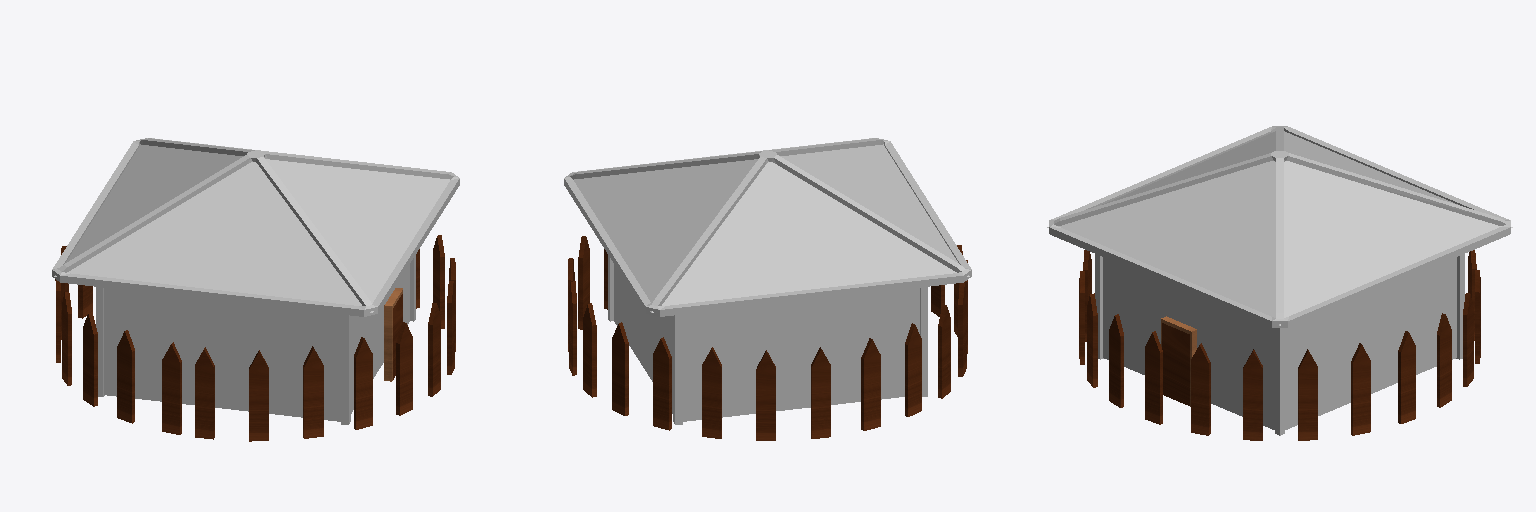
3 renders of one model, left to right at view 1: azimuth 30°, elevation 25°; view 2: azimuth 150°, elevation 25°; view 3: azimuth 270°, elevation 25°, orthographic.
Visible parts, largest first — view 1: House.004_Cube.005, Fence_Cube.001, DoorMesh_Plane.006; view 2: House.004_Cube.005, Fence_Cube.001; view 3: House.004_Cube.005, Fence_Cube.001, DoorMesh_Plane.006.
Boxes of the visible parts, x1=… form: House.004_Cube.005: x1=52, y1=138, x2=459, y2=424; Fence_Cube.001: x1=55, y1=235, x2=455, y2=441; DoorMesh_Plane.006: x1=384, y1=288, x2=402, y2=381; House.004_Cube.005: x1=564, y1=138, x2=971, y2=424; Fence_Cube.001: x1=568, y1=236, x2=967, y2=440; House.004_Cube.005: x1=1047, y1=126, x2=1512, y2=435; Fence_Cube.001: x1=1079, y1=250, x2=1480, y2=440; DoorMesh_Plane.006: x1=1161, y1=316, x2=1196, y2=406.
Bounding box in the file's own units: 2.35 × 1.13 × 2.35.
Materials: 3 (2 with a texture image).